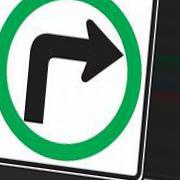right: (1, 1, 142, 161)
